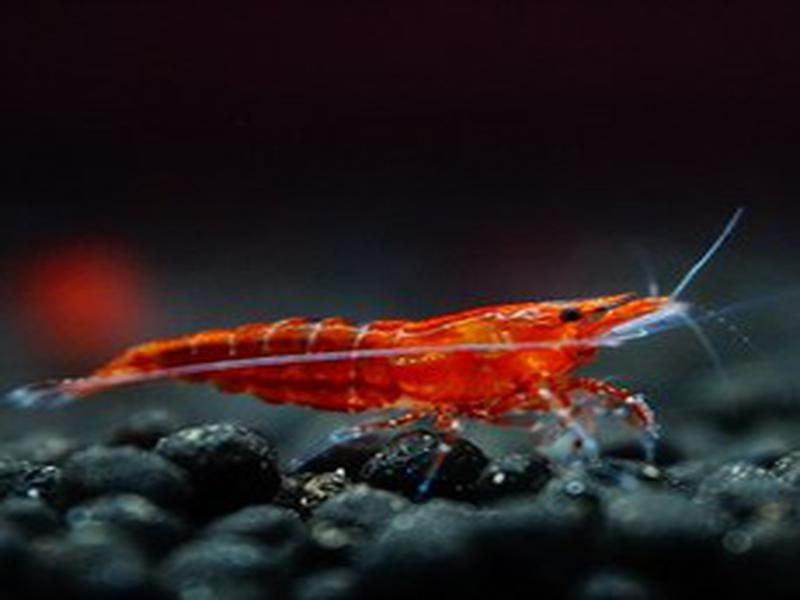shrimp: (5, 284, 697, 459)
